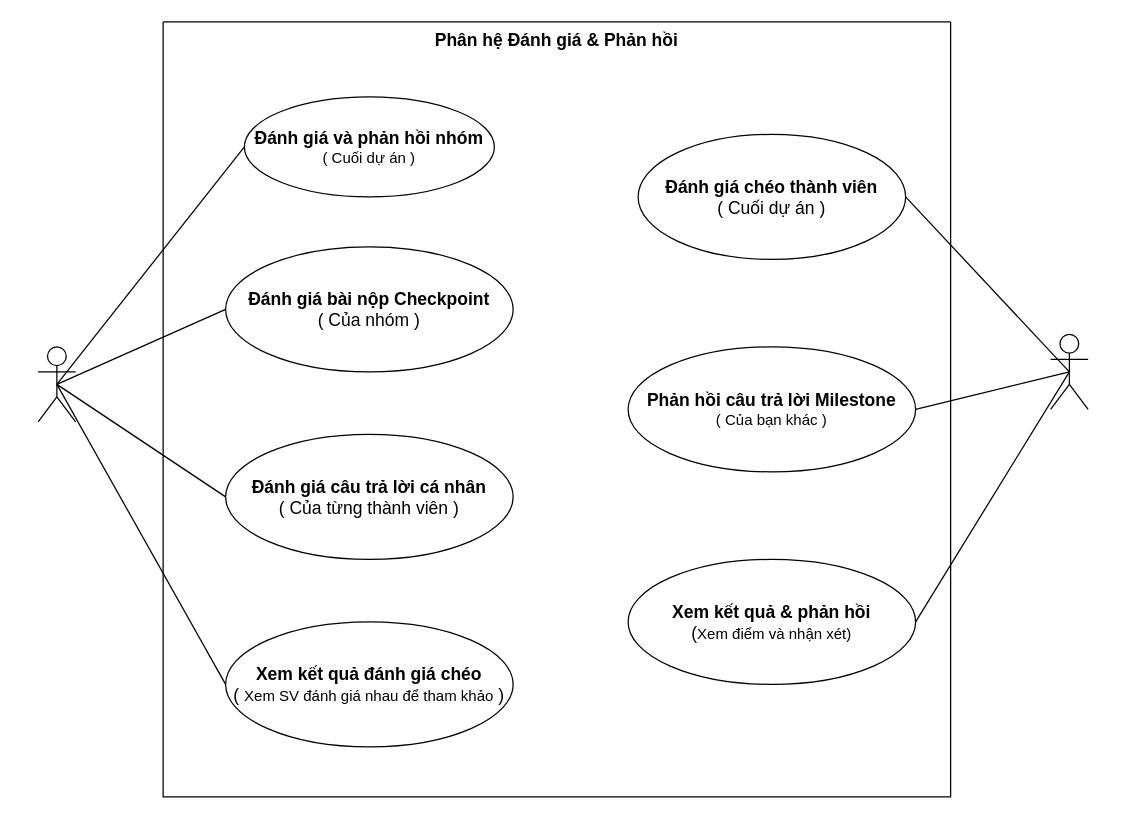
Image size: 1121x819. Some labels were removed from this diagram. The centre of each missing label's shape, as x and y in pixels:
"Giảng viên" belongs at (56,384).
"Sinh viên" belongs at (1068,371).
